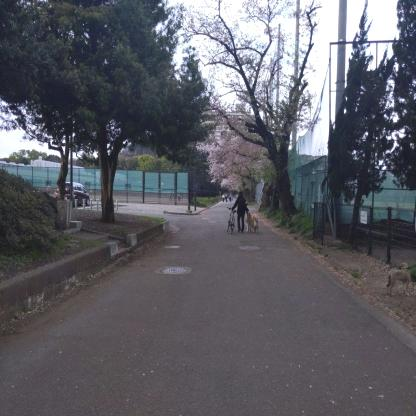Someiyoshino: (177, 0, 320, 206)
